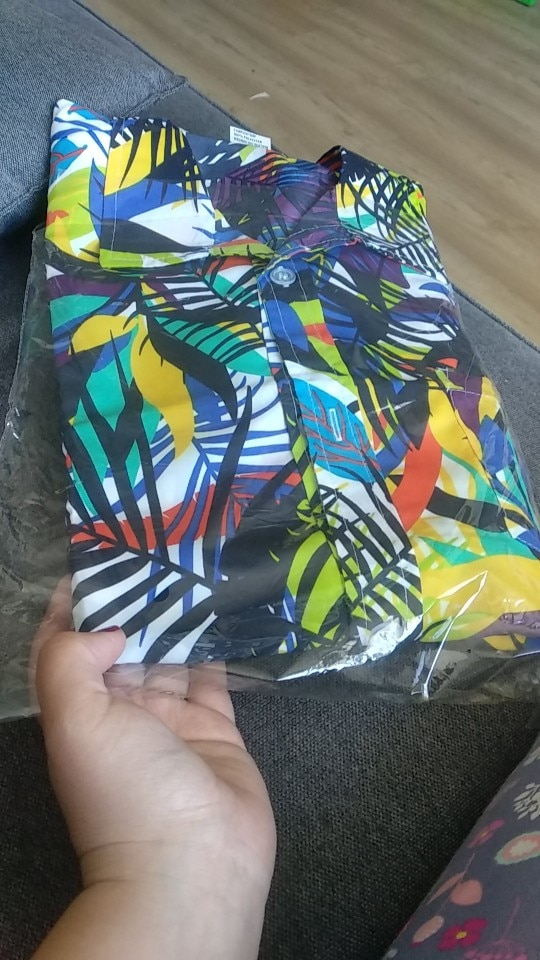shirts: (51, 96, 540, 663)
